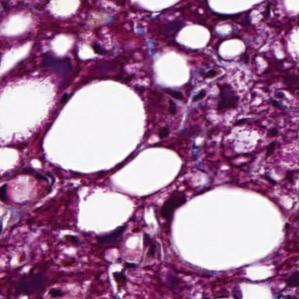inflammation: (98, 239, 163, 299), (189, 68, 246, 116)
